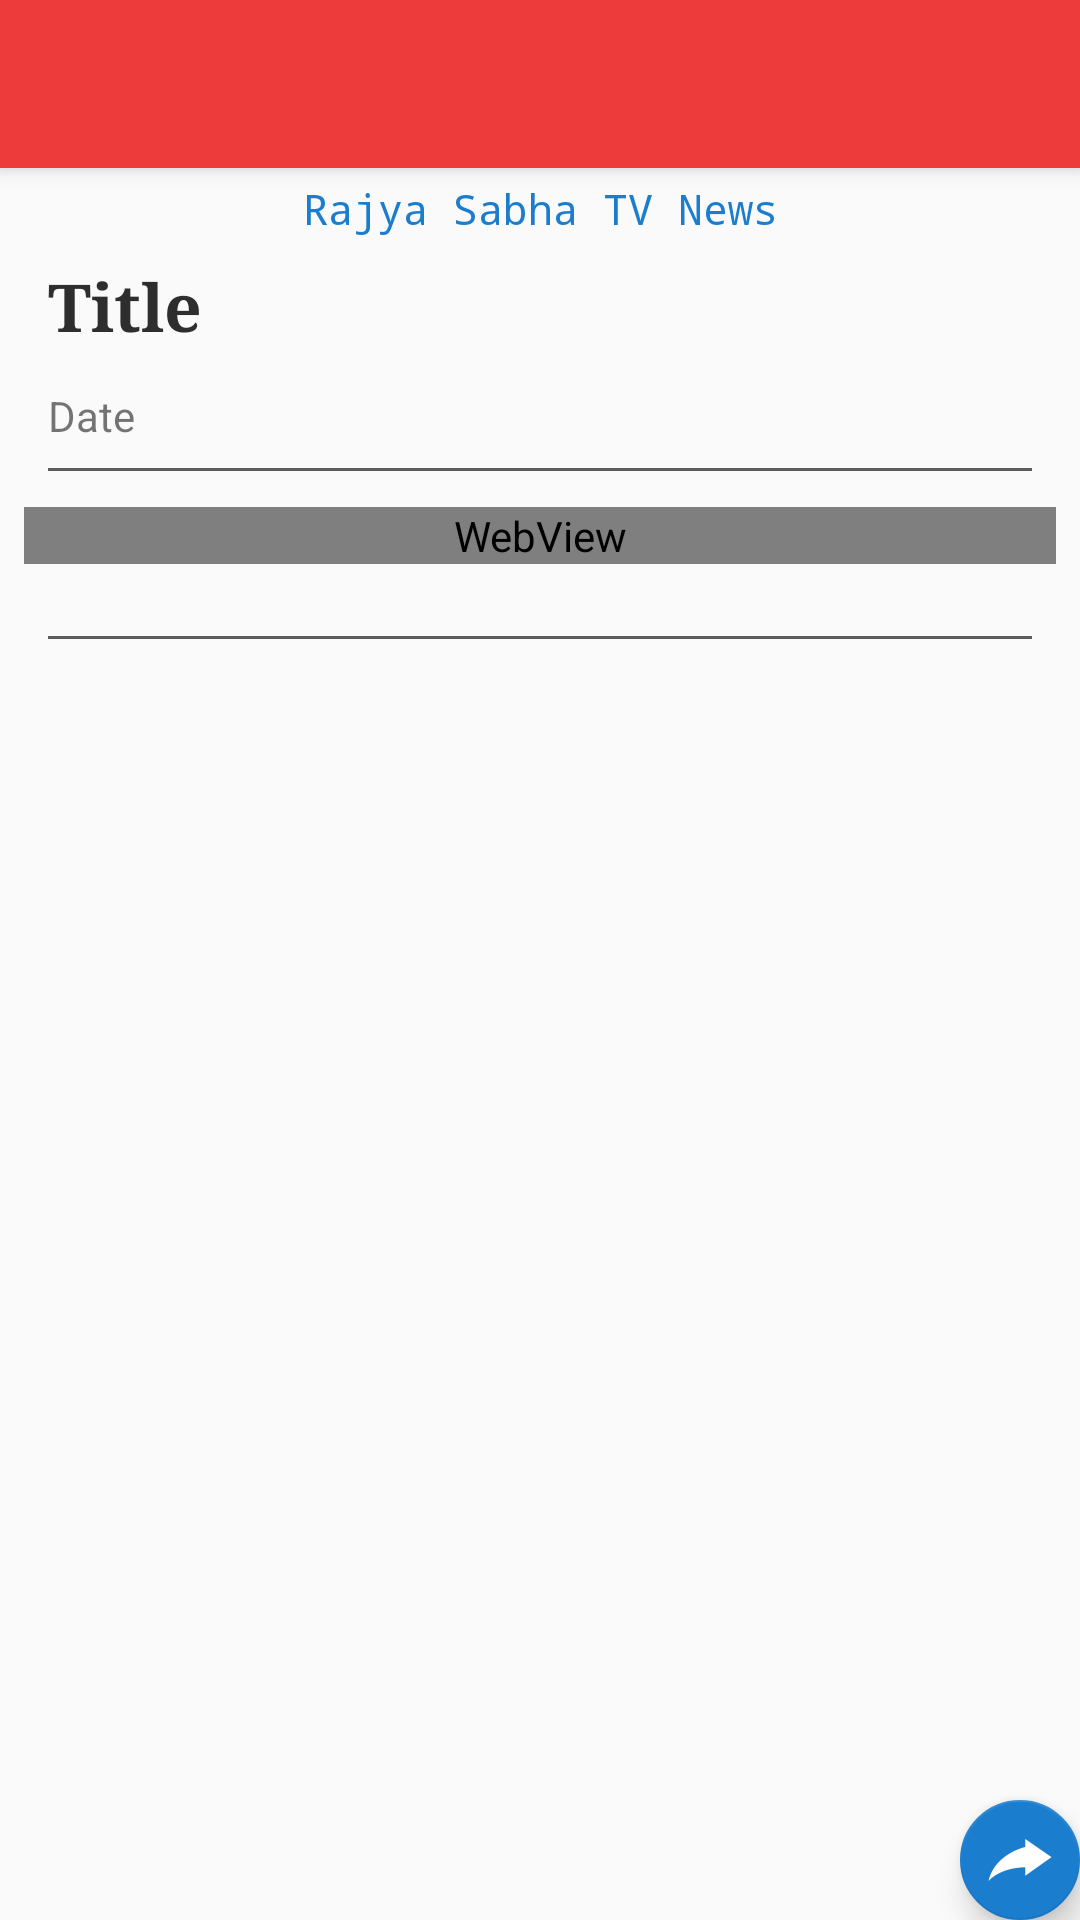

Screen size 1080x1920. Icon name, then its center in pixels as [x,y]:
share: [1020,1860]
